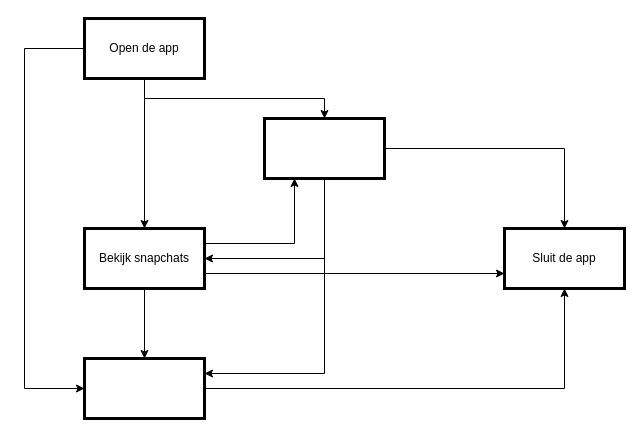
Image size: 643x437. Some labels were removed from this diagram. The shapes that lost their labels are listed below. From the top down, each one's centre as x and y in pixels, then its label:
At pixel 324 148: "Maak een foto".
At pixel 144 388: "Bekijk verhalen".
